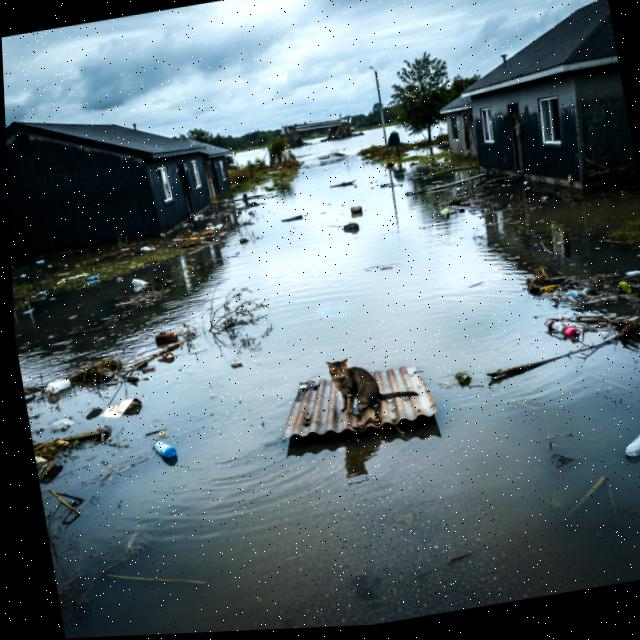cat: (318, 342, 426, 424)
